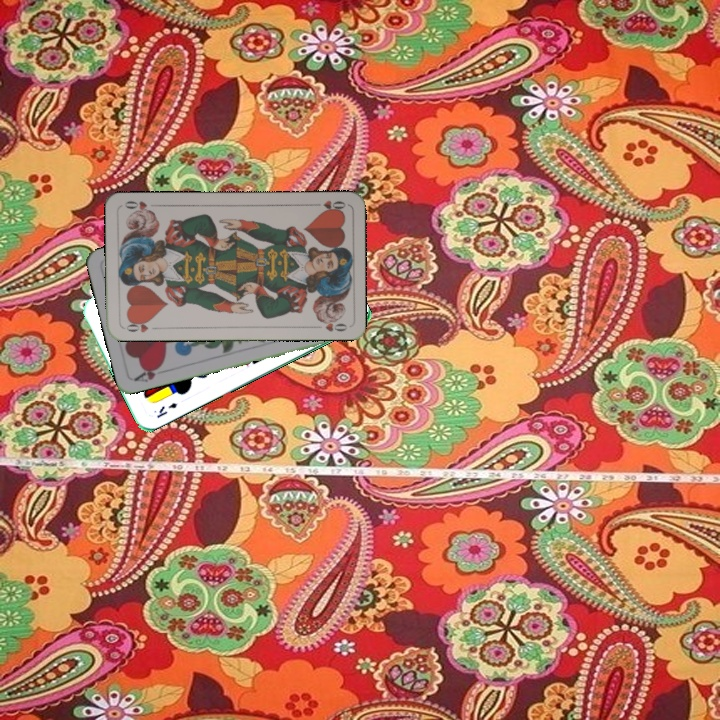EK: (153, 399, 180, 420)
HA: (130, 360, 170, 384)
HO: (120, 316, 161, 335), (308, 197, 348, 214)
